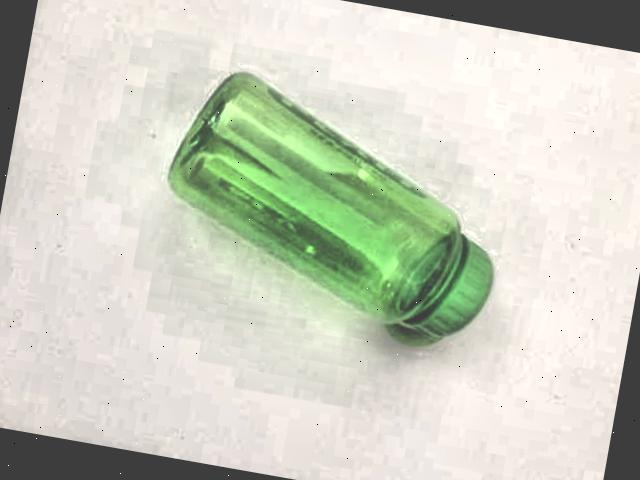Plastic: (142, 46, 546, 366)
